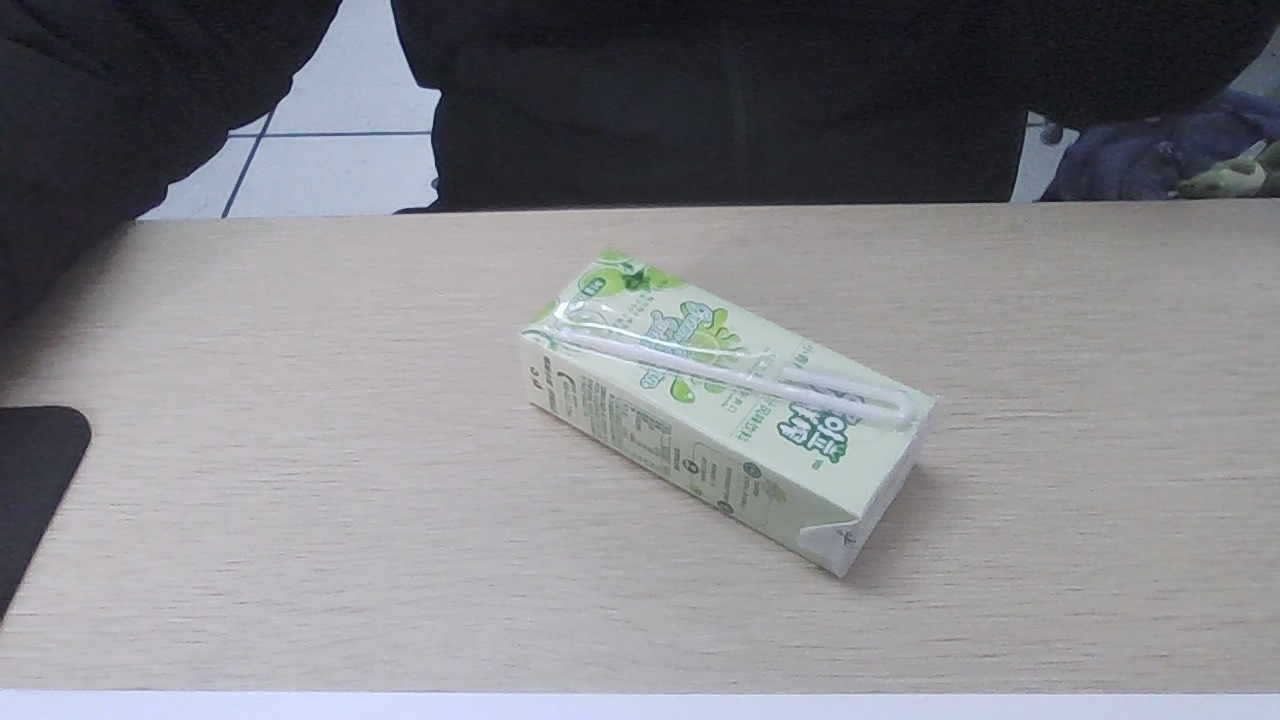CY-drink: (526, 251, 928, 575)
